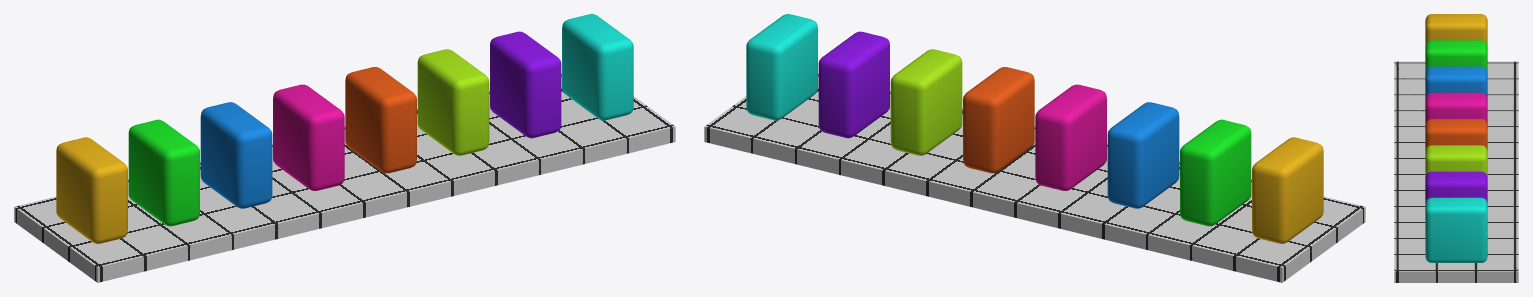
Rendered from MorphStressTest.gltf.
3 renders of one model, left to right at view 1: azimuth 30°, elevation 25°; view 2: azimuth 150°, elevation 25°; view 3: azimuth 270°, elevation 25°, orthographic. The views are drawn at different scales.
Parts seen in each view (by area): view 1: Main; view 2: Main; view 3: Main.
Part boxes in pixels (bbox=[...]): Main: bbox=[14, 14, 675, 282]; Main: bbox=[704, 14, 1365, 282]; Main: bbox=[1394, 14, 1518, 282].
Bounding box in the file's own units: 4 × 0.6 × 1.
Materials: 2 (2 with a texture image).
